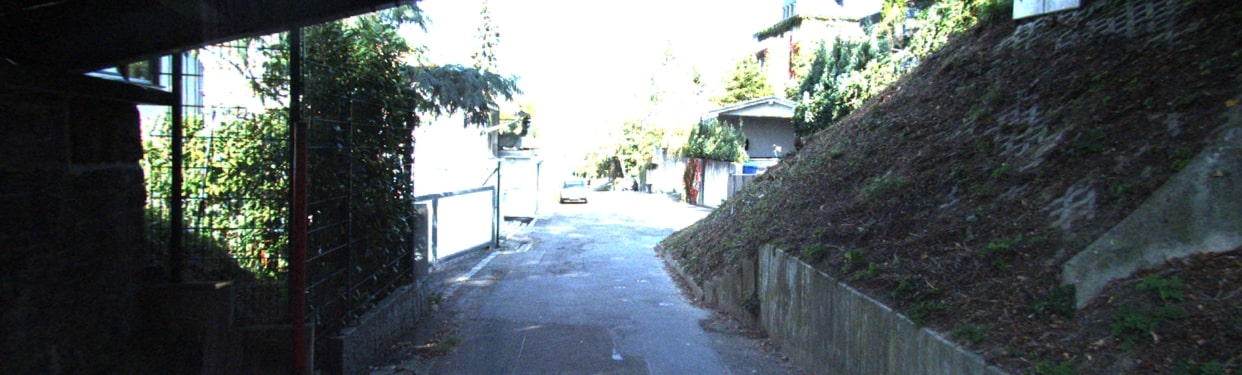car: (558, 173, 589, 204)
